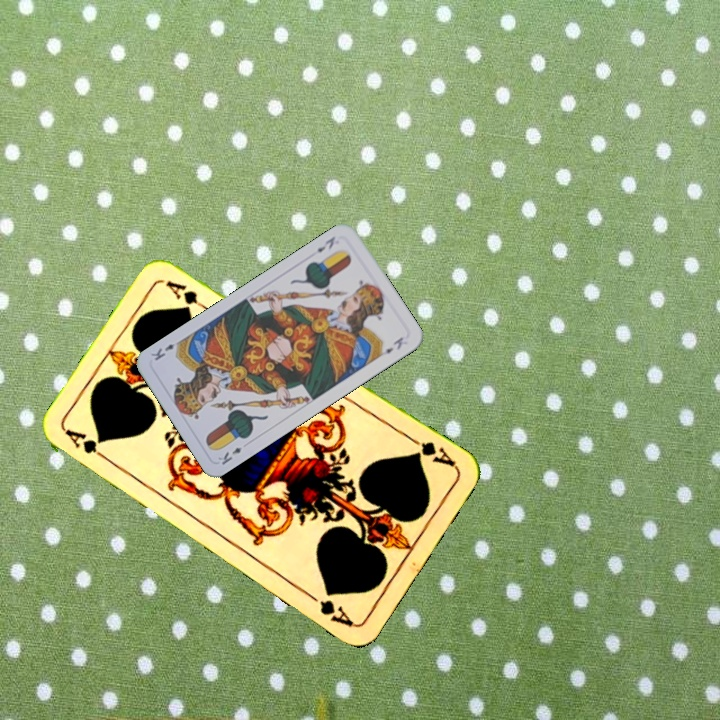EK: (214, 443, 245, 468), (312, 232, 338, 255)
GA: (61, 425, 114, 466), (405, 432, 459, 470)
